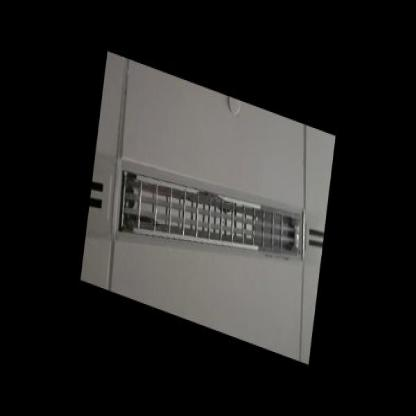light_off: (108, 137, 311, 305)
